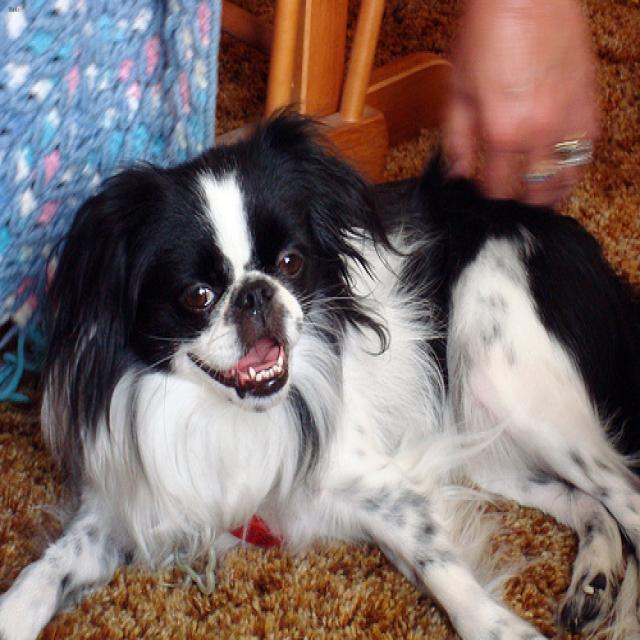dog-japanese_chin: (1, 96, 637, 637)
